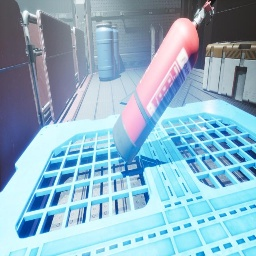FireExtinguisher ]: (112, 0, 216, 164)
